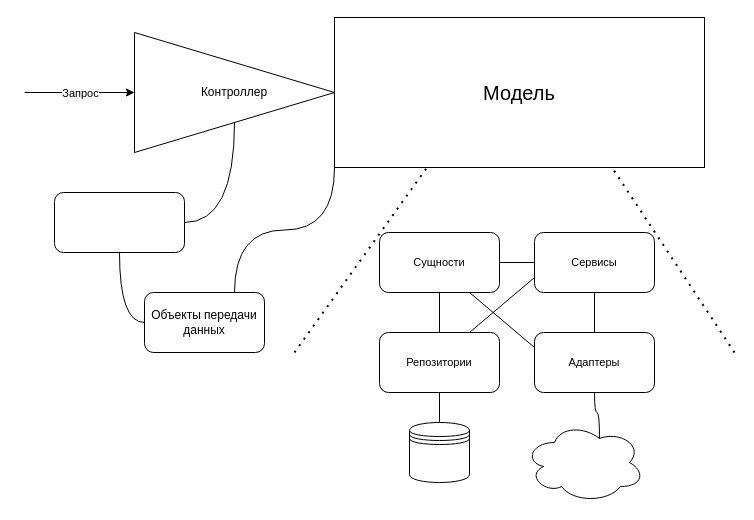
Image size: 754x520. Some labels were removed from this diagram. Each missing label, with the centre of its shape:
БД: [439,452]
Инфраструктура: [584,462]
Утилитарные классы: [119,222]
